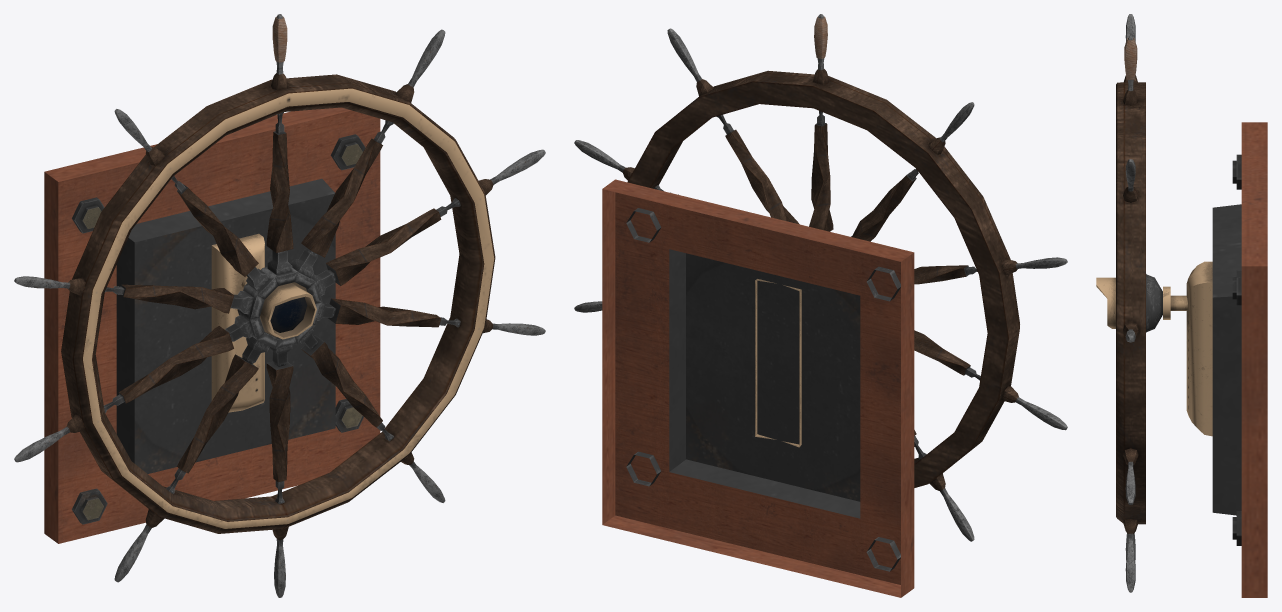
Rendered from Control Wheel Wall Mounted Animatable.fbx.
The picture shows the model from 3 angles, left to right: view 1: azimuth 30°, elevation 25°; view 2: azimuth 150°, elevation 25°; view 3: azimuth 270°, elevation 25°; orthographic projection. The views are drawn at different scales.
Visible parts, largest first — view 1: Wheel, Base; view 2: Base, Wheel; view 3: Base, Wheel.
Part boxes in pixels (x1=…): Wheel: x1=14, y1=14, x2=545, y2=597; Base: x1=44, y1=107, x2=380, y2=543; Base: x1=602, y1=179, x2=914, y2=597; Wheel: x1=574, y1=14, x2=1067, y2=541; Base: x1=1186, y1=122, x2=1267, y2=597; Wheel: x1=1096, y1=14, x2=1187, y2=592.
Size of the model in its own units: 136 by 143 by 41.59.
